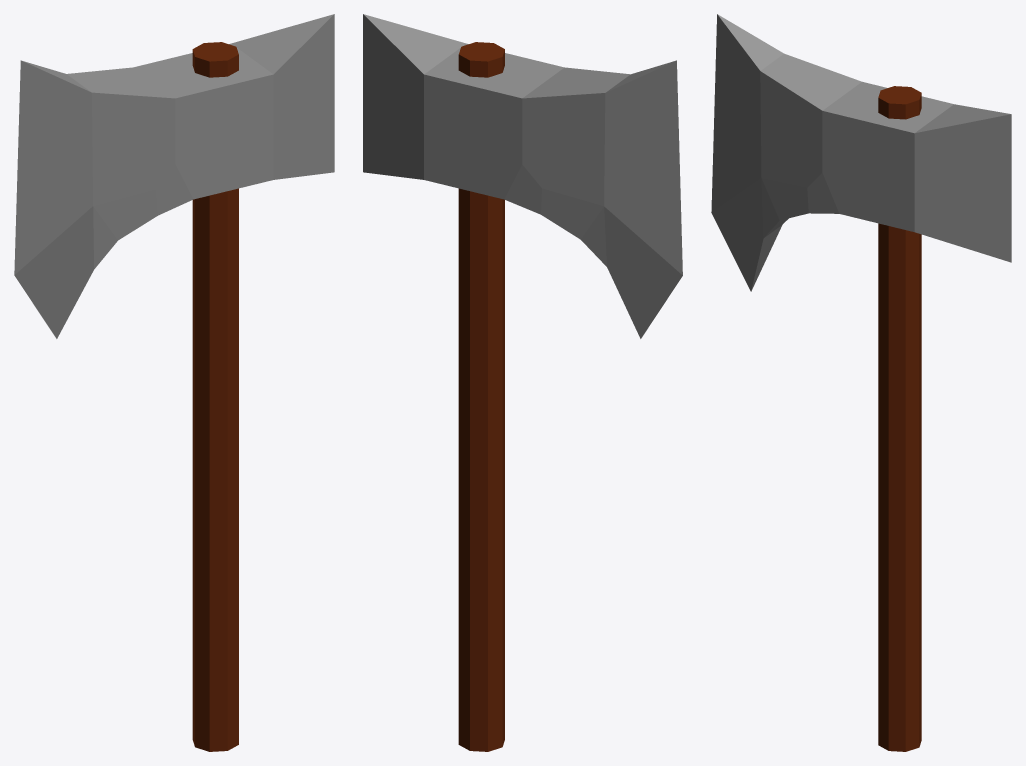
The model's file is vikking bijl.fbx.
3 views of the same model, side by side, from view 1: azimuth 30°, elevation 25°; view 2: azimuth 150°, elevation 25°; view 3: azimuth 330°, elevation 25° (orthographic). The views are drawn at different scales.
Parts seen in each view (by area): view 1: Cylinder; view 2: Cylinder; view 3: Cylinder.
Part boxes in pixels (<box>): Cylinder: <box>14,14,334,751</box>; Cylinder: <box>363,14,682,751</box>; Cylinder: <box>711,14,1011,751</box>.
Bounding box in the file's own units: 0.3994 × 0.8697 × 0.0915.
